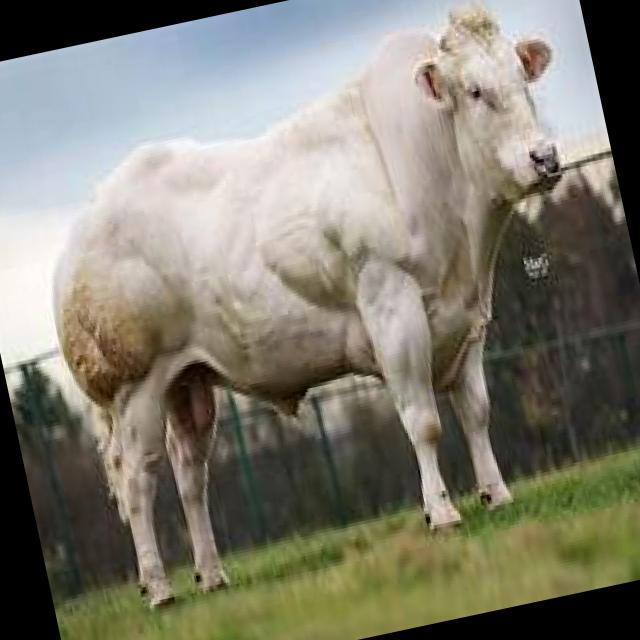animal: (4, 0, 640, 616)
